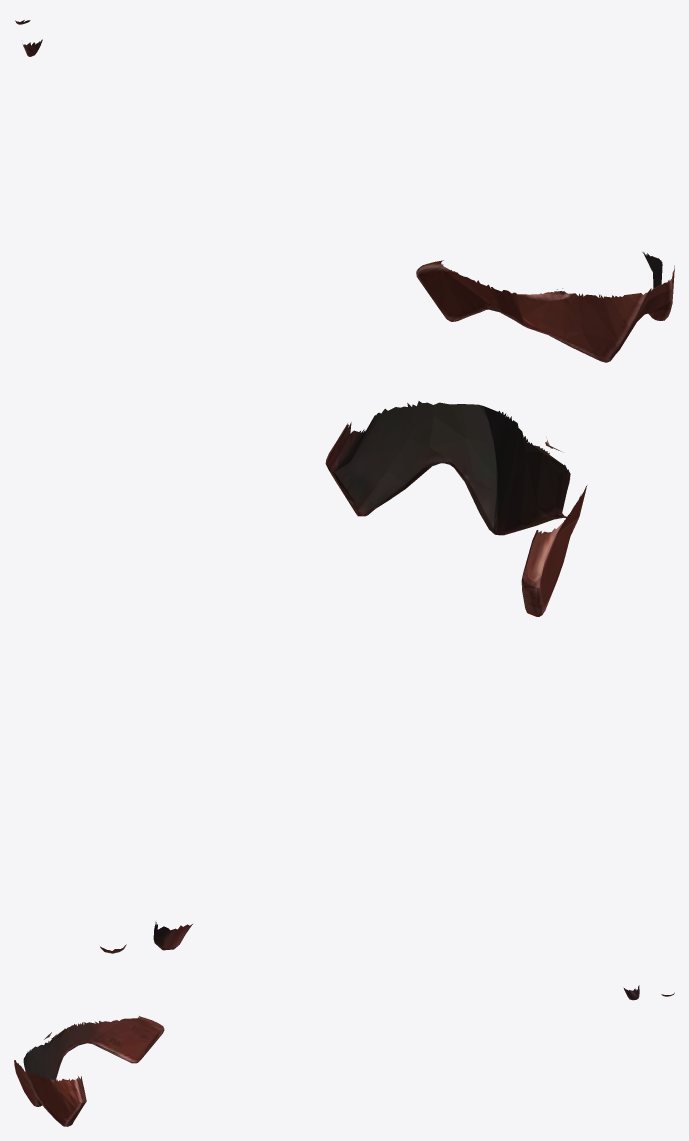
The model's file is boots.glb.
3 renders of one model, top to bottom at view 1: azimuth 30°, elevation 25°; view 2: azimuth 150°, elevation 25°; view 3: azimuth 270°, elevation 25°, orthographic. The views are drawn at different scales.
Parts seen in each view (by area): view 1: meshes[0]; view 2: meshes[0]; view 3: meshes[0].
Boxes of the visible parts, x1,y1,x2,y2 form: meshes[0]: [15, 20, 674, 362]; meshes[0]: [100, 401, 587, 953]; meshes[0]: [14, 985, 674, 1126].
Size of the model in its own units: 0.1956 by 0.0523 by 0.5415.
1 material, 1 textured.
